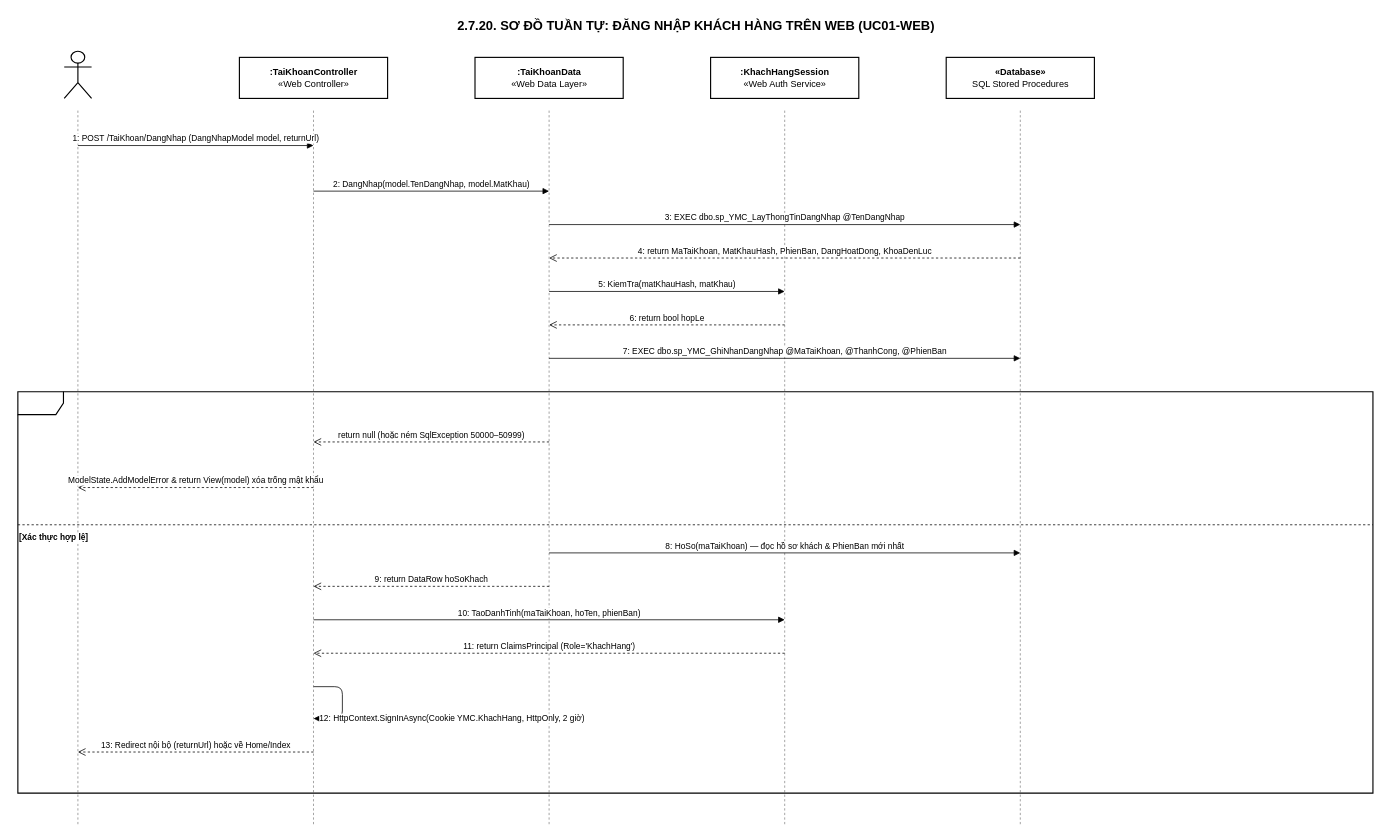
Some shapes in this 1390 by 838 pixel diagram are drawn without their labels. The box of each missing label's shape, as (x1, y1, x2, y2) in pixels:
:KhachHang (Trình duyệt Web): (63, 50, 92, 99)
alt [Sai mật khẩu HOẶC tài khoản bị khóa HOẶC không có hồ sơ khách hoạt động]: (17, 391, 1373, 793)
